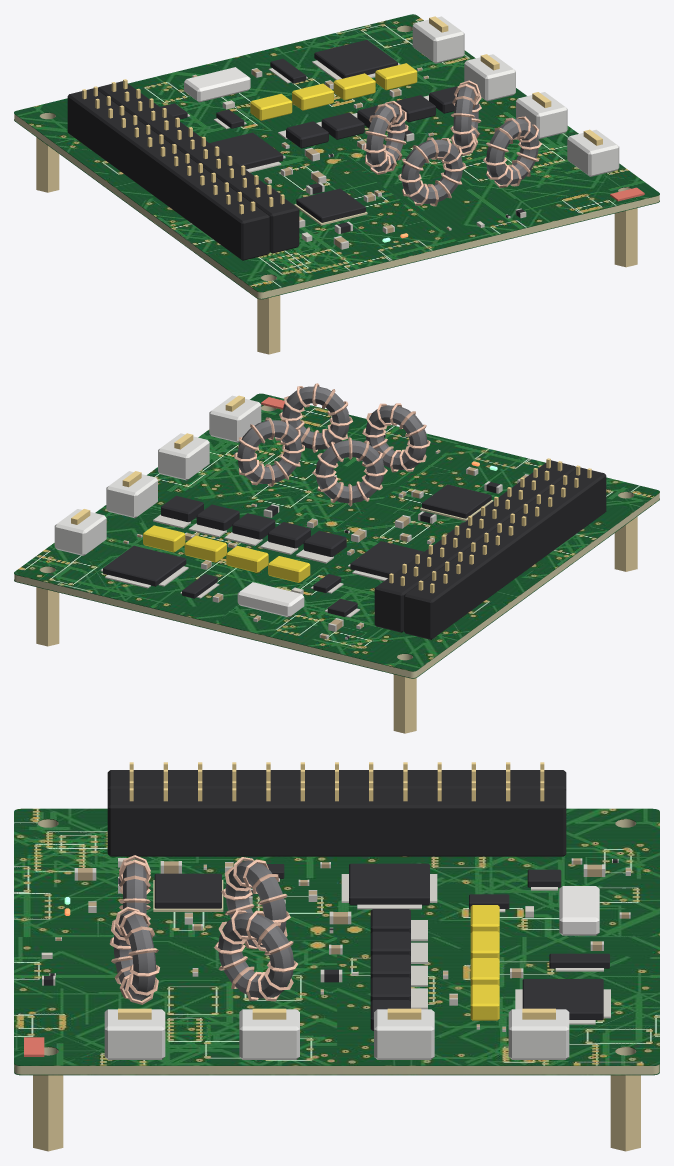
File: eps_board.glb
The picture shows the model from 3 angles, top to bottom: view 1: azimuth 30°, elevation 25°; view 2: azimuth 150°, elevation 25°; view 3: azimuth 270°, elevation 25°; orthographic projection. The views are drawn at different scales.
Visible parts, largest first — view 1: eps_board; view 2: eps_board; view 3: eps_board.
Boxes of the visible parts, x1=… form: eps_board: x1=14, y1=14, x2=659, y2=354; eps_board: x1=14, y1=383, x2=659, y2=733; eps_board: x1=14, y1=762, x2=659, y2=1151.
Bounding box in the file's own units: 0.0902 × 0.0298 × 0.0959.
Materials: 17 (1 with a texture image).
